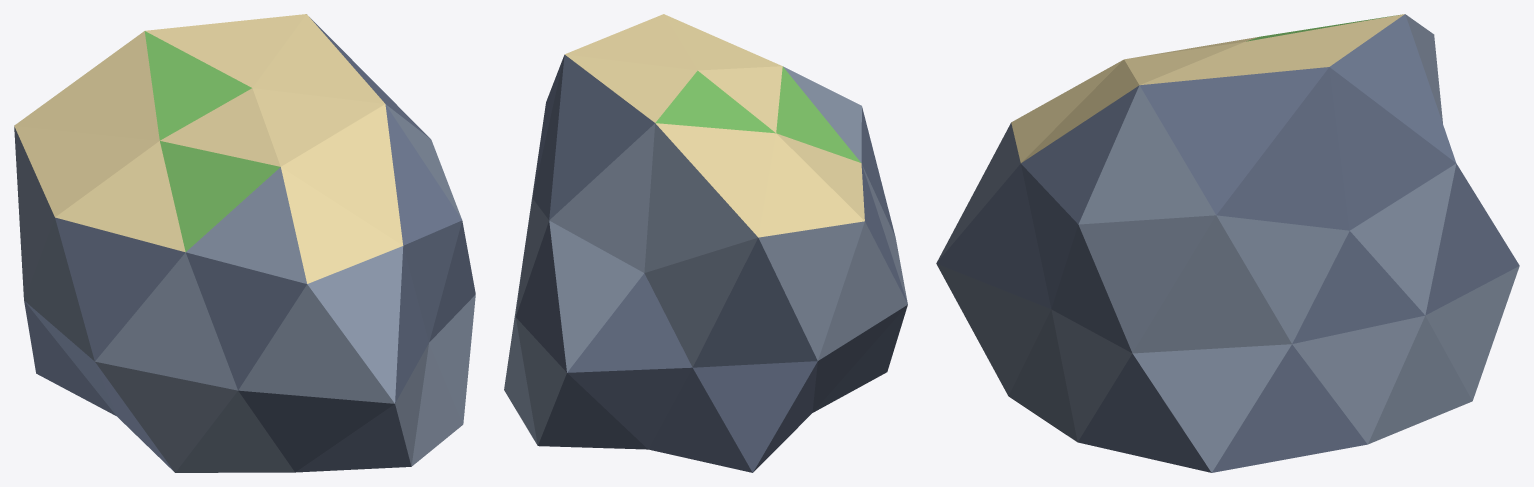
Rendered from rock_boulder_a_reef.fbx.
3 renders of one model, left to right at view 1: azimuth 30°, elevation 25°; view 2: azimuth 150°, elevation 25°; view 3: azimuth 270°, elevation 25°, orthographic. The views are drawn at different scales.
Parts seen in each view (by area): view 1: rock_boulder_a_reef; view 2: rock_boulder_a_reef; view 3: rock_boulder_a_reef.
Part boxes in pixels (x1,y1,x2,y2): rock_boulder_a_reef: (14, 14, 475, 472); rock_boulder_a_reef: (504, 14, 907, 472); rock_boulder_a_reef: (936, 14, 1519, 472).
Bounding box in the file's own units: 835 × 709 × 1055.
Materials: 1 (1 with a texture image).
